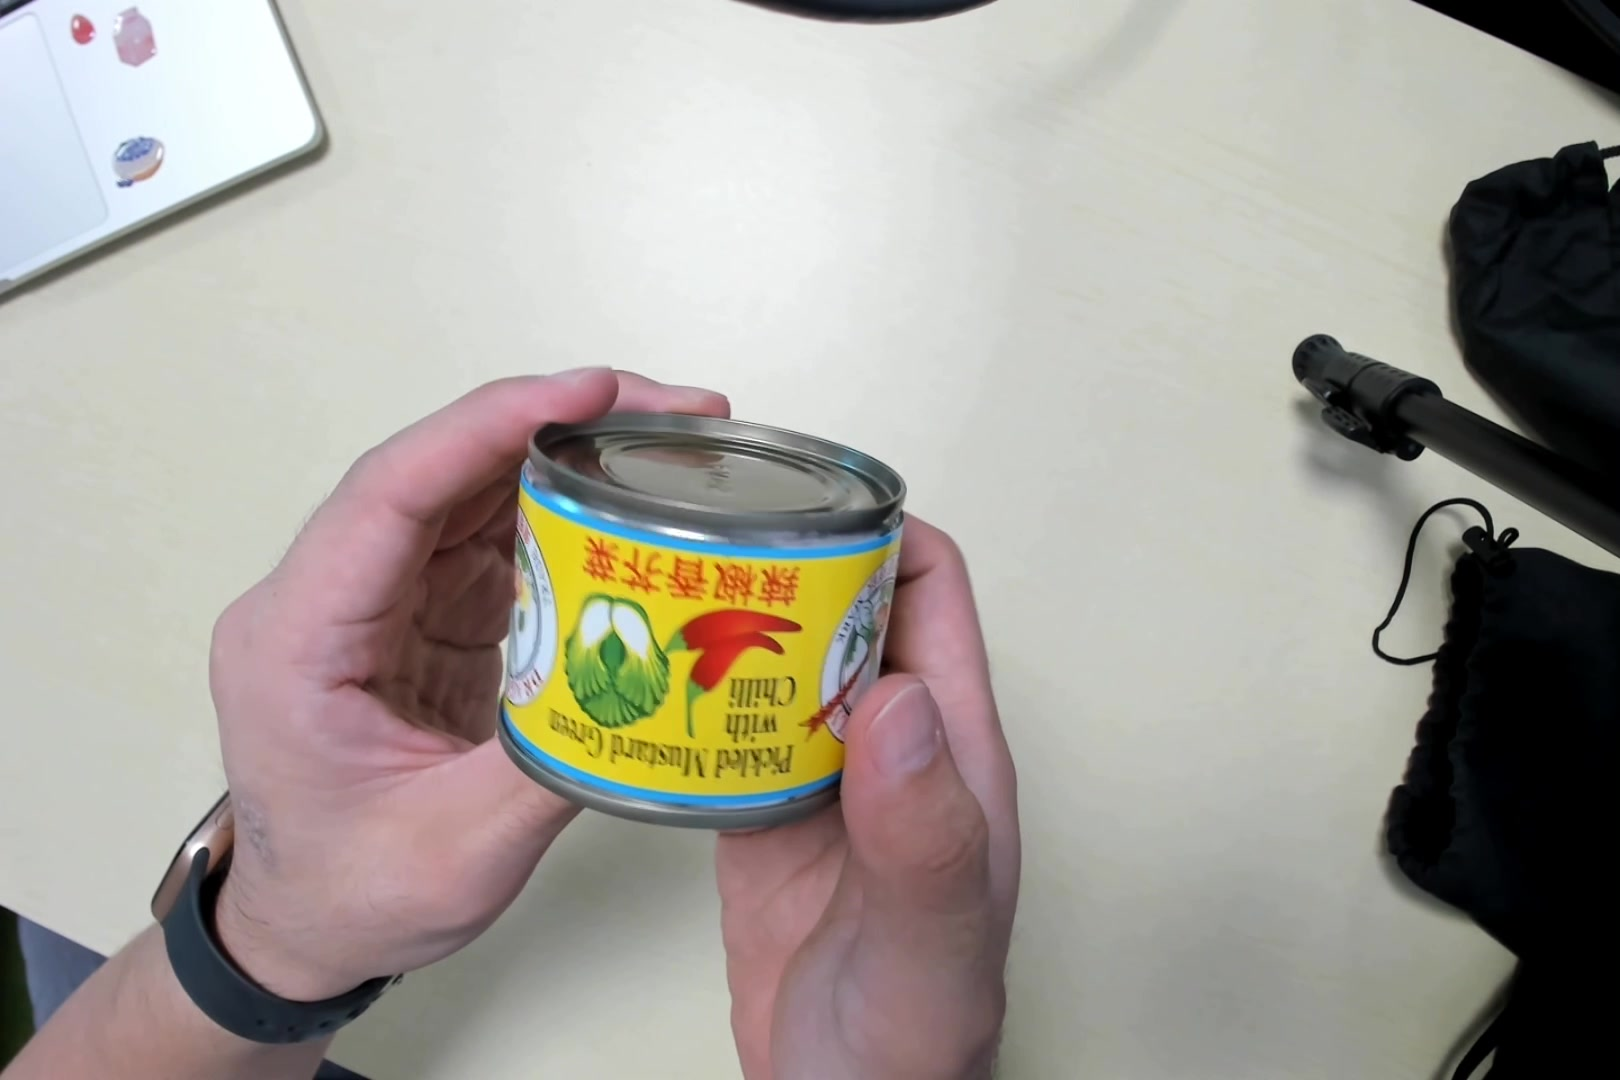CannedFruitsCocktail_0-99g_Halal_NonHealthy: (501, 441, 899, 808)
